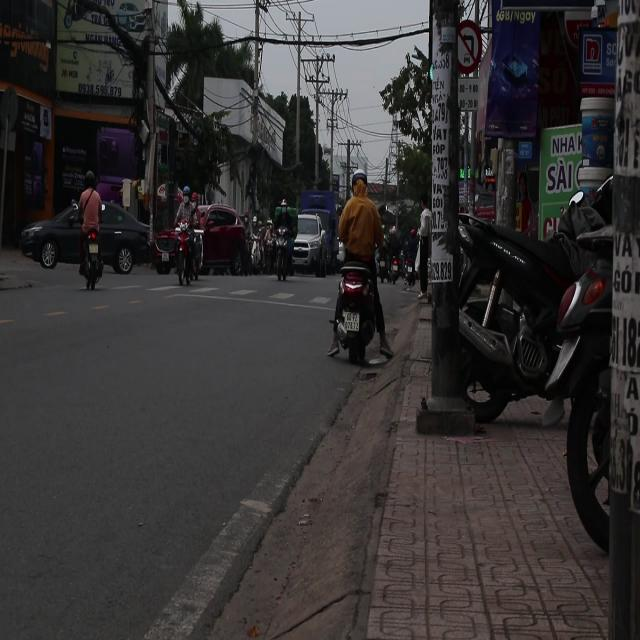car: (20, 198, 153, 274), (194, 204, 252, 276), (292, 213, 334, 278)
motorbike: (447, 207, 594, 428), (331, 250, 386, 374), (172, 227, 204, 285), (152, 229, 182, 277), (273, 225, 291, 286)
truck: (298, 192, 338, 236)
